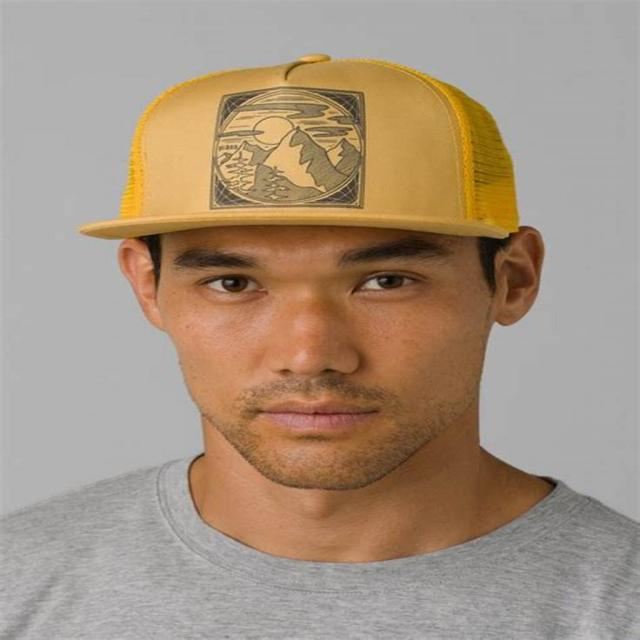illegal_helmet: (66, 44, 552, 502)
